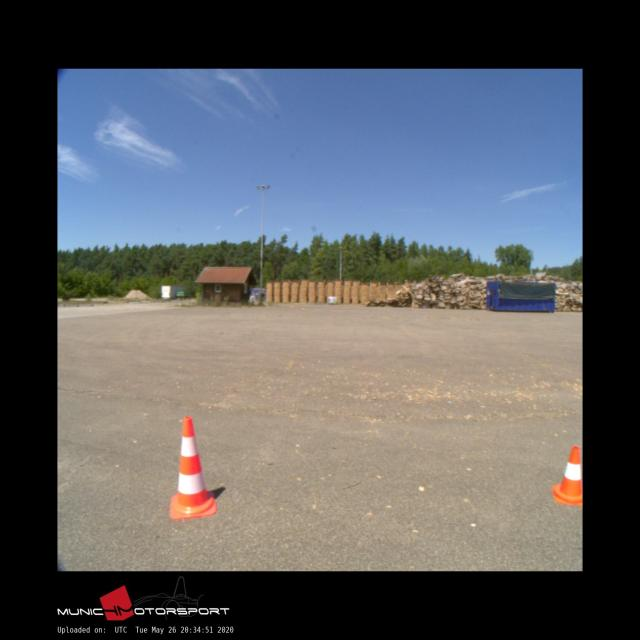large_orange_cone: (170, 417, 216, 518)
orange_cone: (552, 446, 582, 504)
